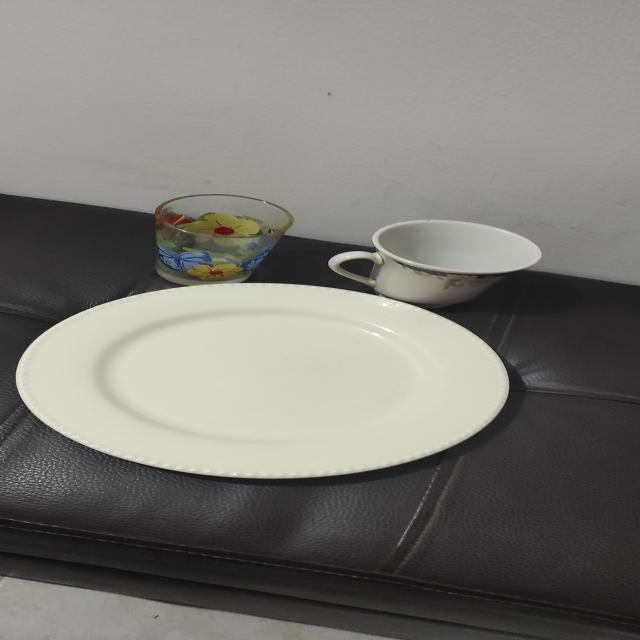ceramic plate: (21, 272, 532, 489)
